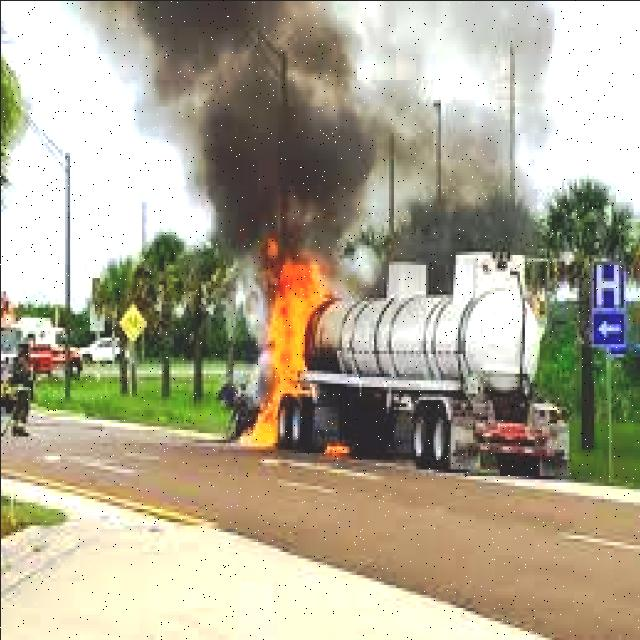api: (236, 252, 347, 456)
